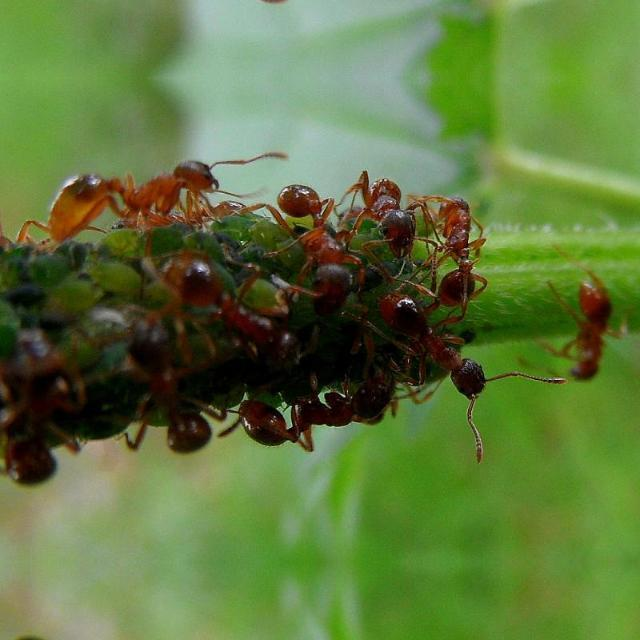Myrmica: (163, 242, 329, 364), (40, 146, 240, 242), (107, 298, 209, 460), (376, 294, 512, 406), (411, 168, 512, 318), (243, 377, 397, 467), (538, 259, 640, 383), (276, 182, 362, 304), (354, 146, 416, 262)
